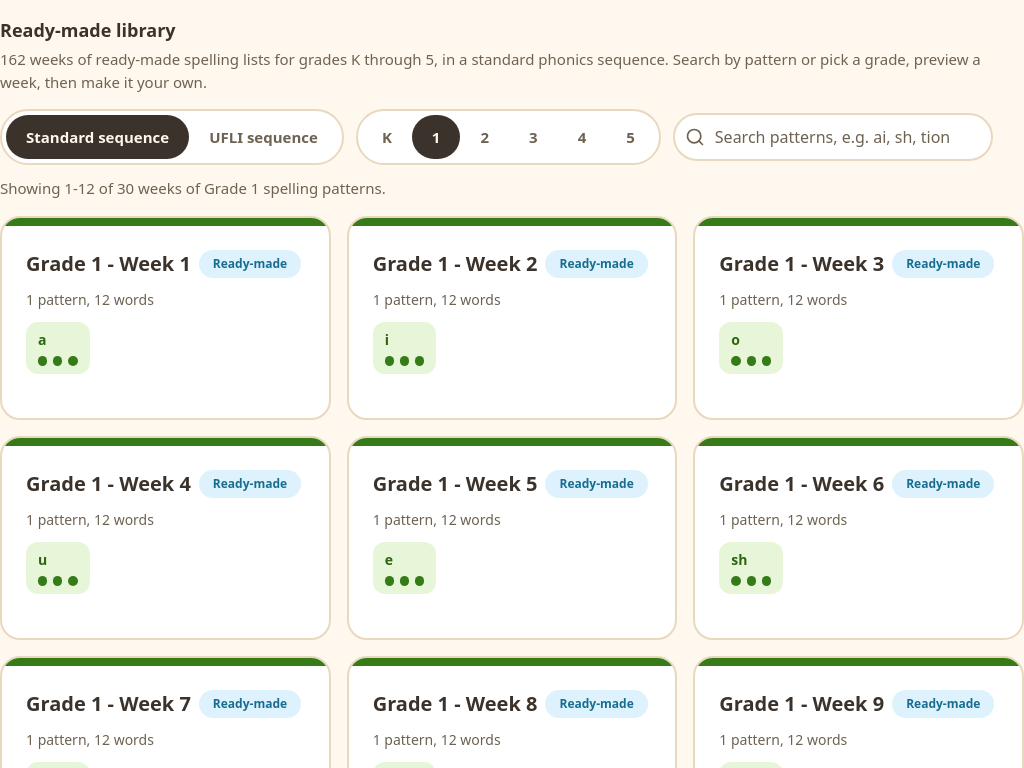
Test case: PrebuiltLibrarySection › searches patterns across all grades
The width and height of the screenshot is (1024, 768).
Type "tion" into the field named "Search ready-made lists by pattern".
click(833, 137); type("tion")  # box x1=673 y1=113 x2=993 y2=161
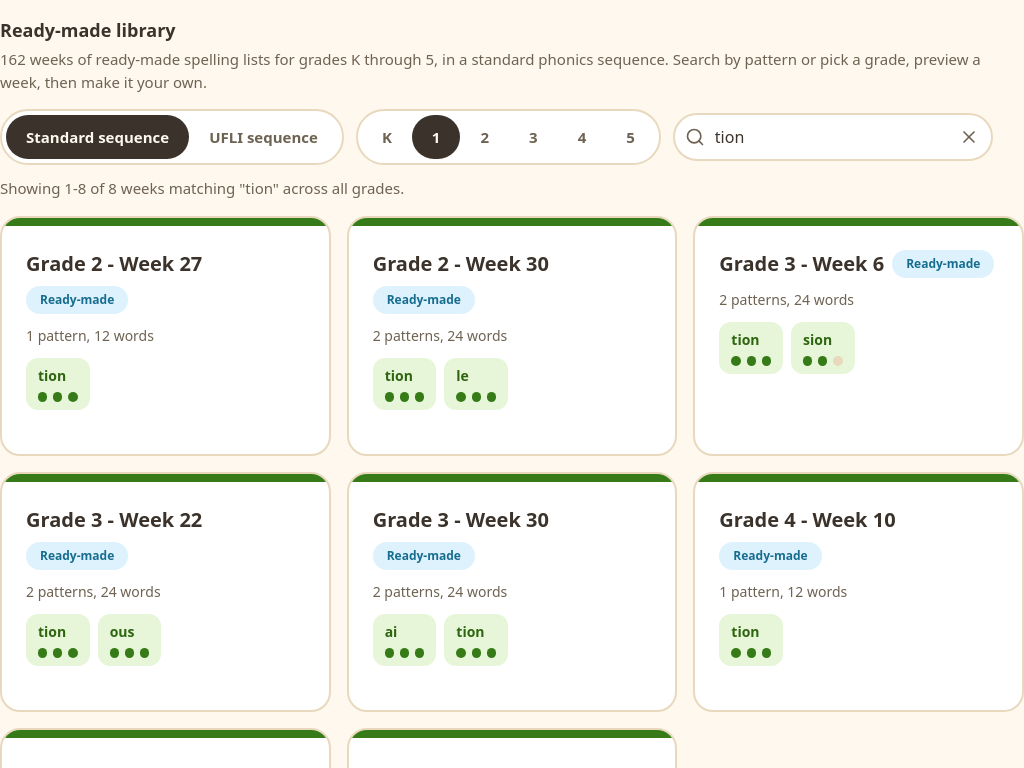
Expected: the message shows "weeks matching \"tion\" across all grades", x1=0 y1=178 x2=404 y2=198
